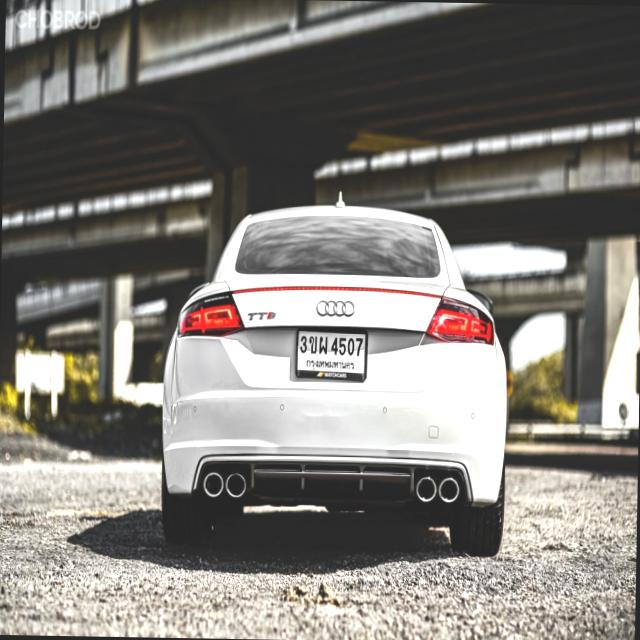license_plate: (294, 325, 368, 382)
